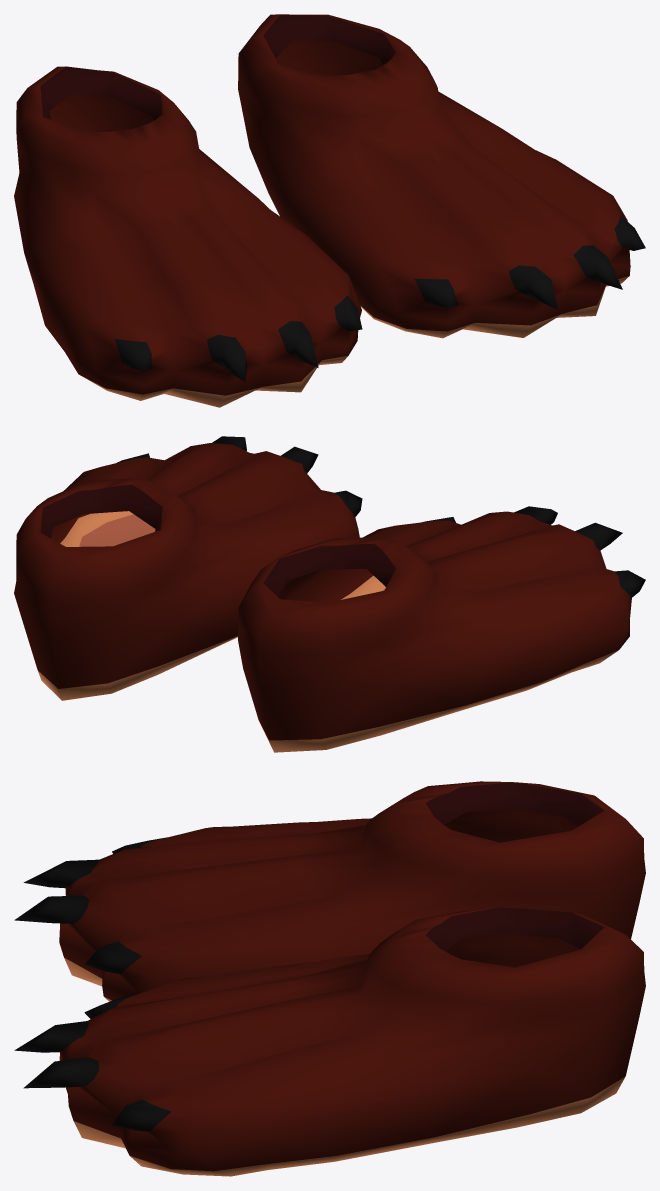
Rendered from M_Feet_BearSlippers.glb.
3 renders of one model, top to bottom at view 1: azimuth 30°, elevation 25°; view 2: azimuth 150°, elevation 25°; view 3: azimuth 270°, elevation 25°, orthographic. The views are drawn at different scales.
Parts seen in each view (by area): view 1: M_Feet_BearSlippers; view 2: M_Feet_BearSlippers; view 3: M_Feet_BearSlippers.
Part boxes in pixels (bbox=[...]): M_Feet_BearSlippers: bbox=[14, 14, 645, 407]; M_Feet_BearSlippers: bbox=[14, 436, 645, 752]; M_Feet_BearSlippers: bbox=[14, 781, 645, 1176].
Size of what is drawn, in the model's own units: 1.14 by 0.2992 by 1.03.
Materials: 1 (1 with a texture image).
